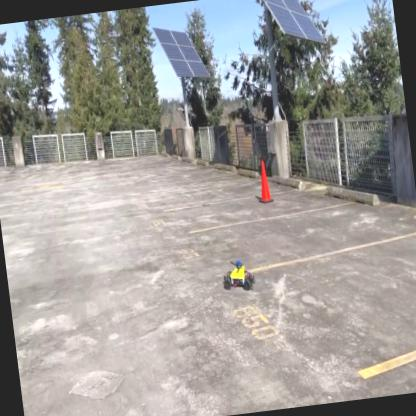cone: (254, 157, 274, 206)
mushr_car: (217, 252, 259, 300)
